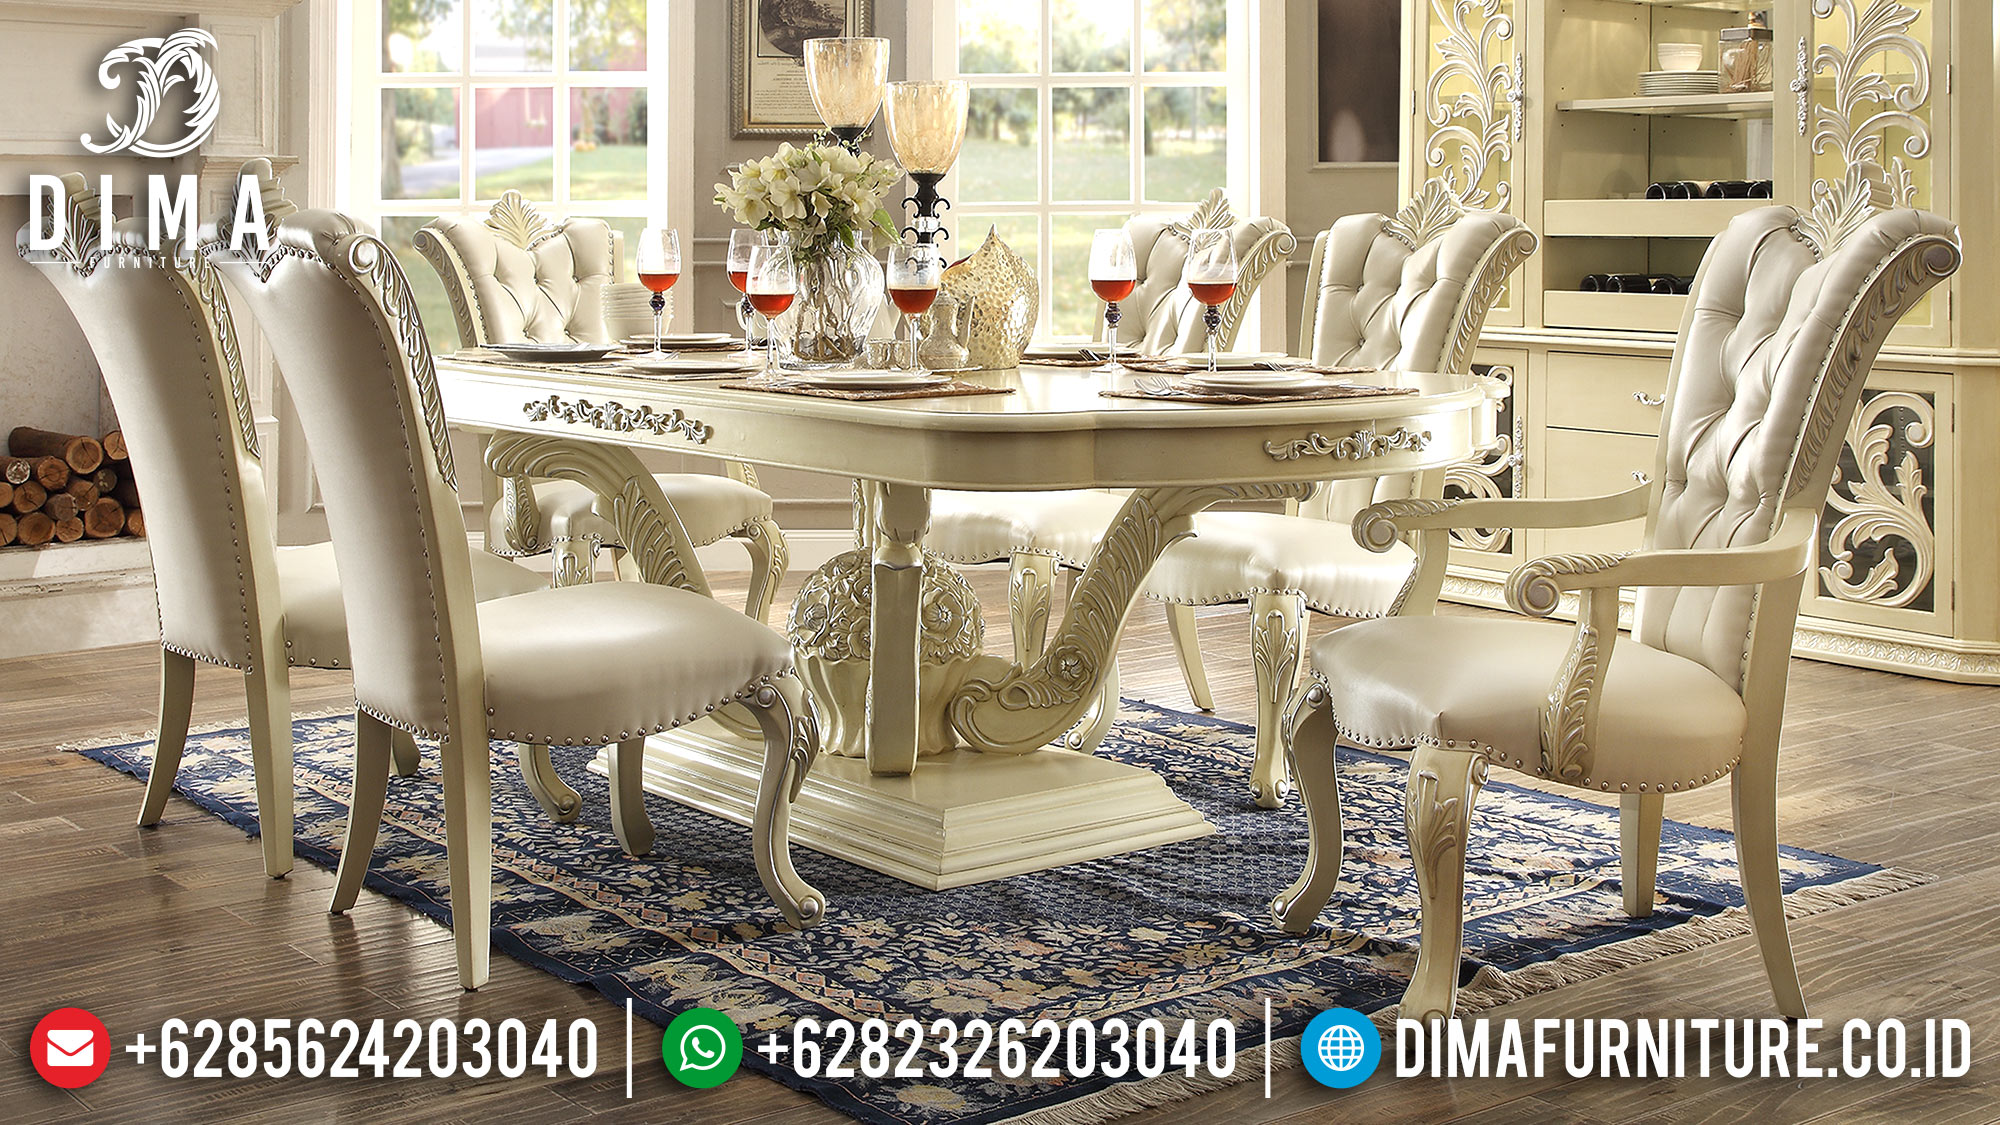Carving Chair: (26, 174, 809, 960), (1363, 181, 1933, 1070)
Carving Table: (416, 310, 1448, 907)
